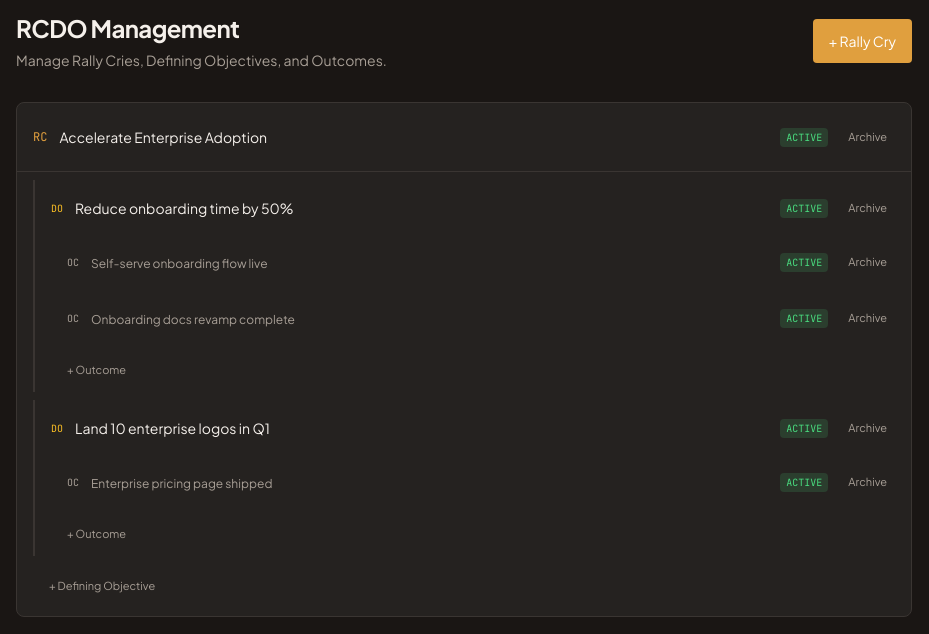
Test: RCDOAdminPage › clicking a title enters inline edit mode
Click the button "Accelerate Enterprise Adoption" at point(163, 137), box [59,127,768,147]
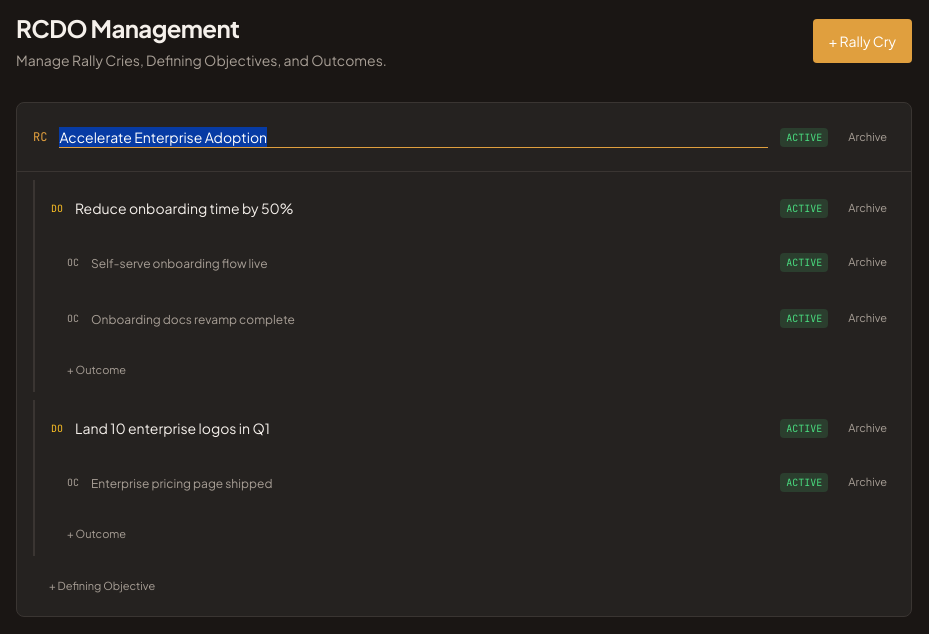
Expected: the field named "Edit title" holds "Accelerate Enterprise Adoption", [59,127,768,148]
